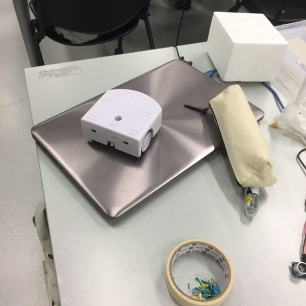thymio: (79, 86, 163, 163)
